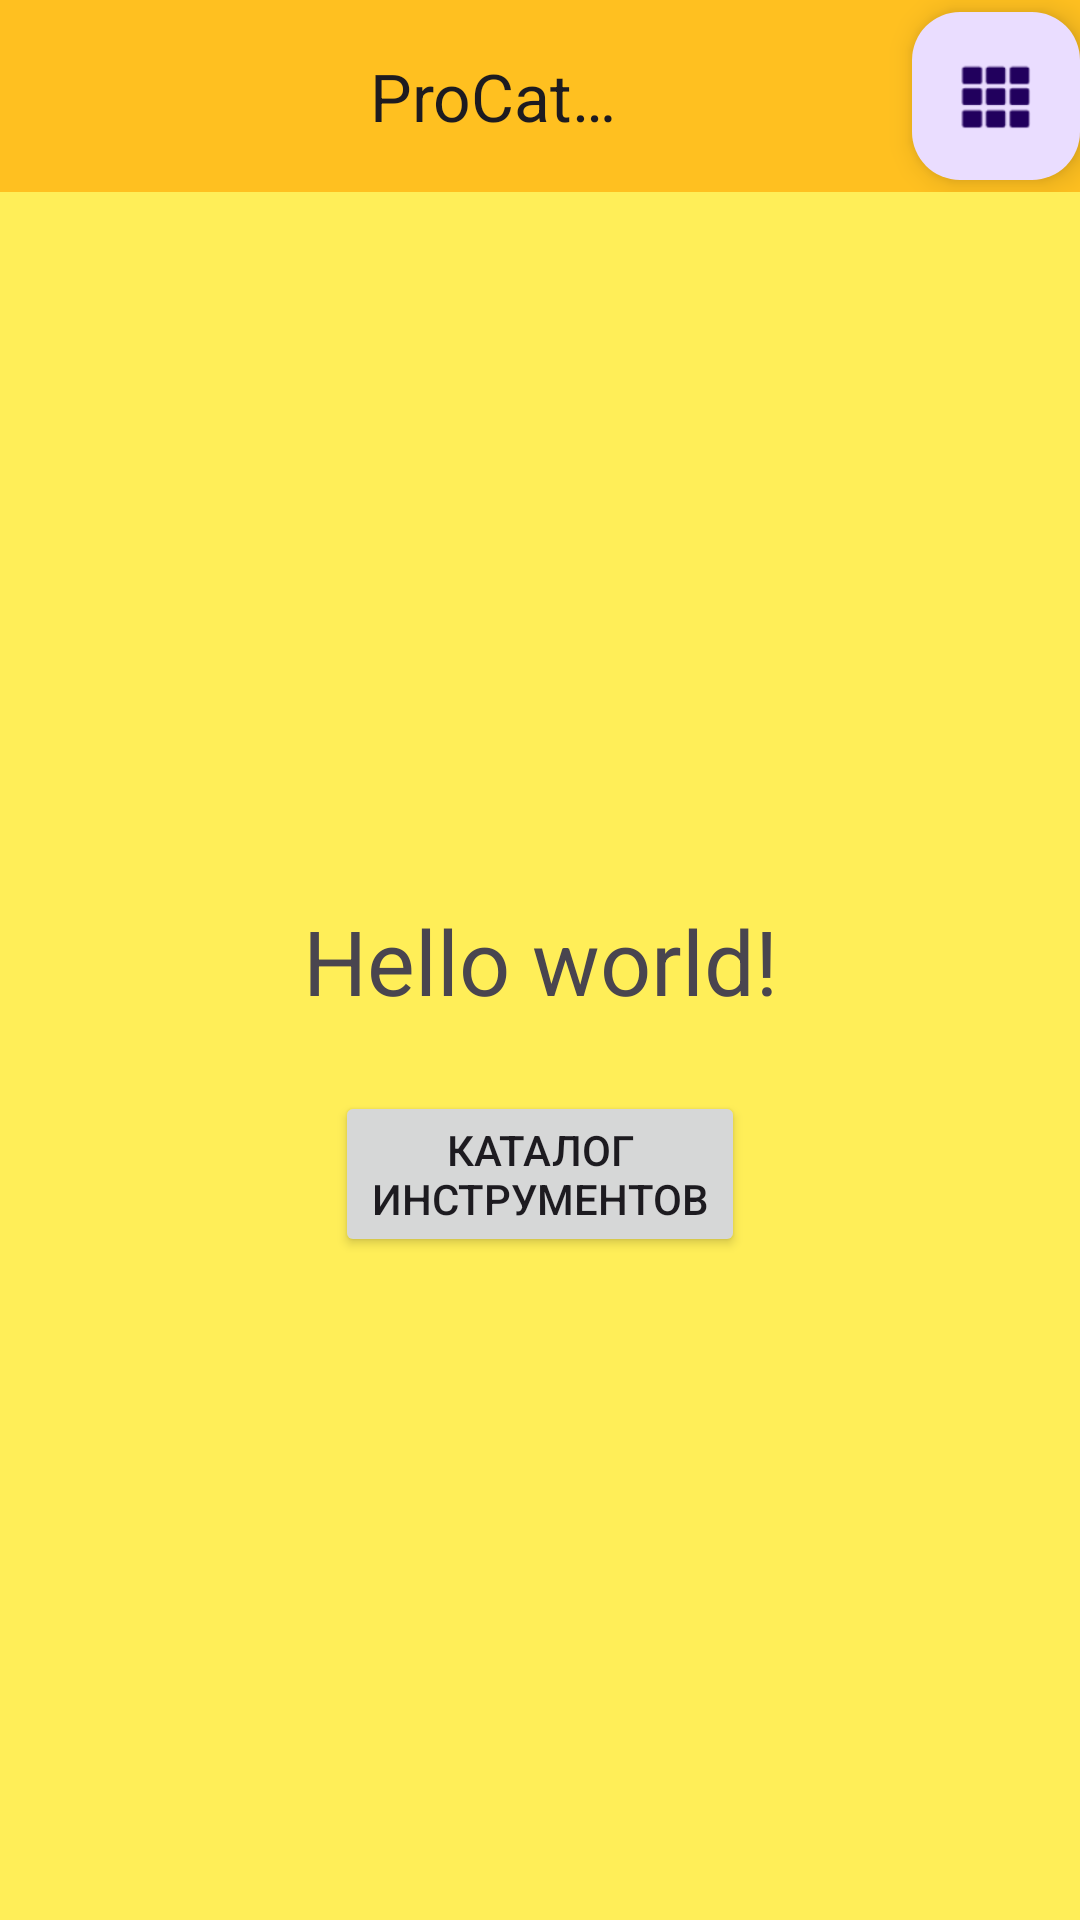

Named icons in this screenshot (1080×1920) and their centers, (x,y):
Menu: (996,96)
